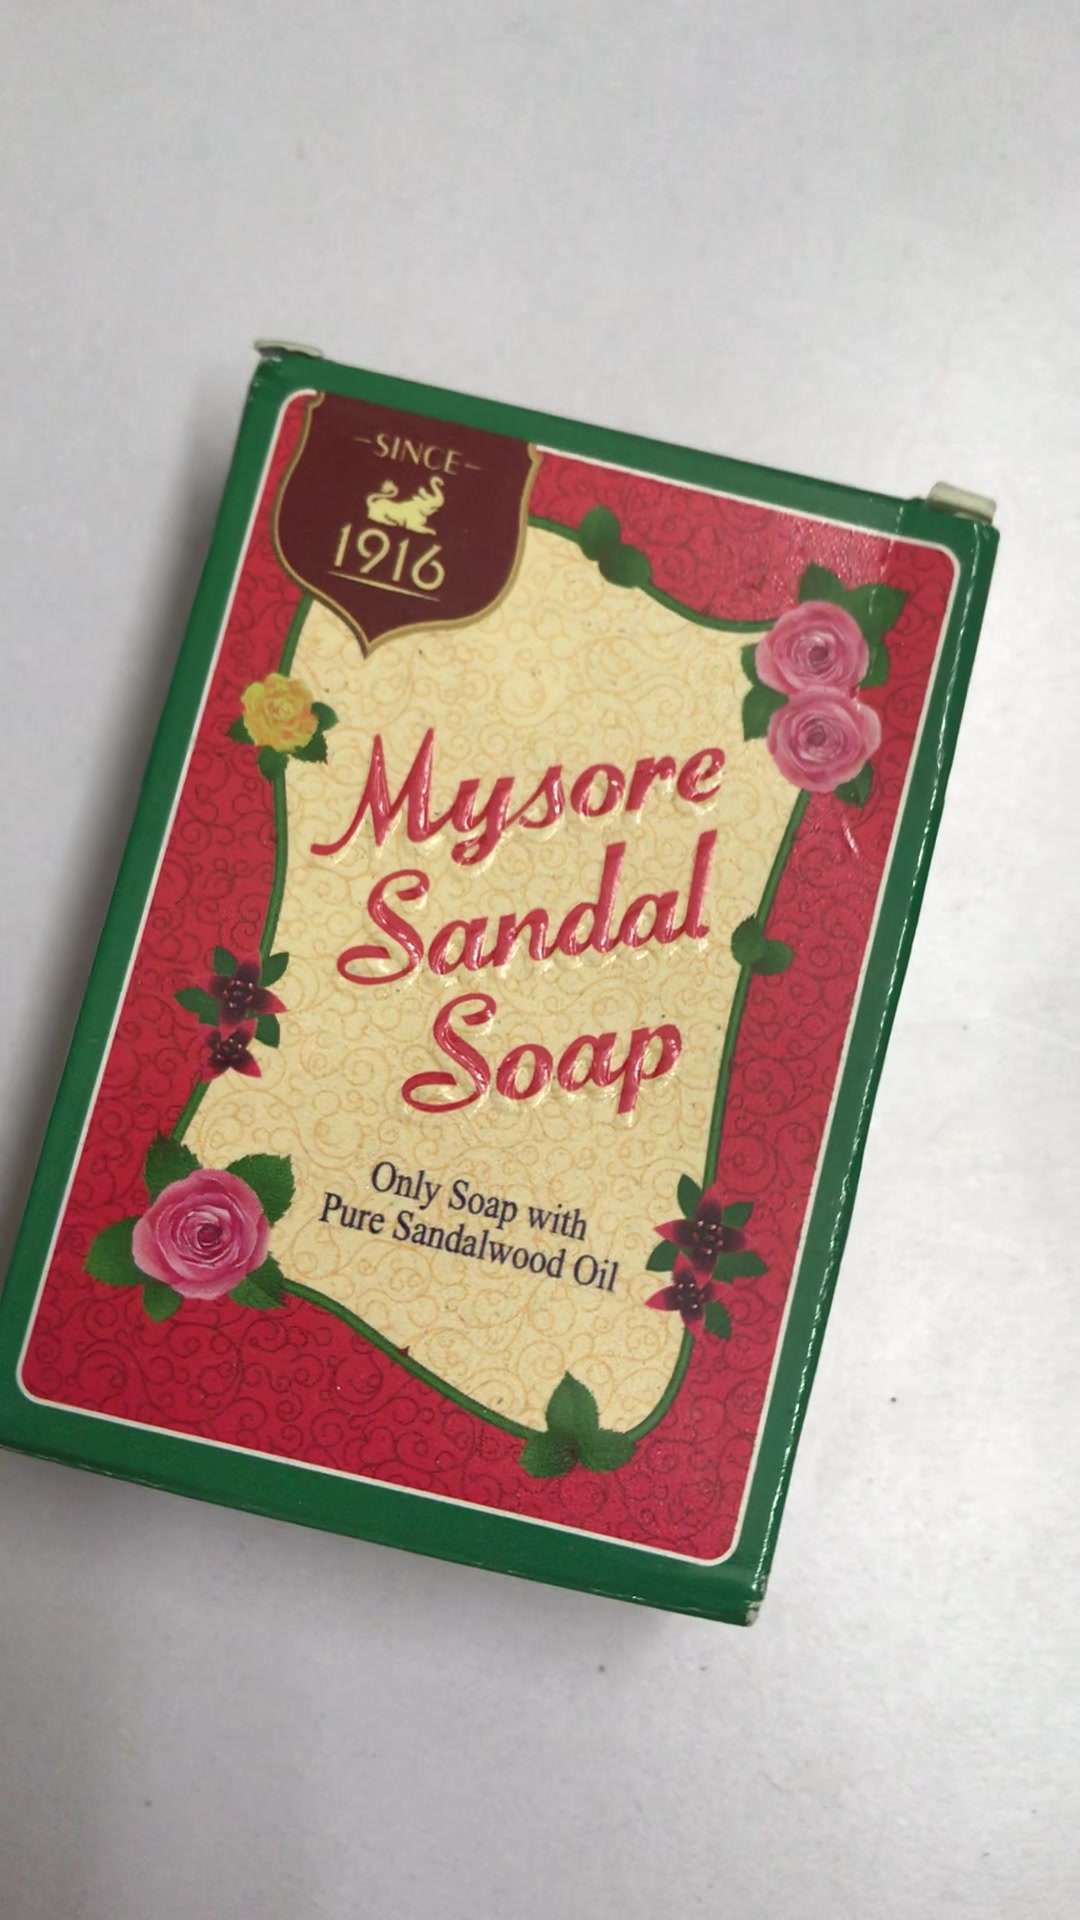mysore sandal soap: (1, 348, 1004, 1627)
